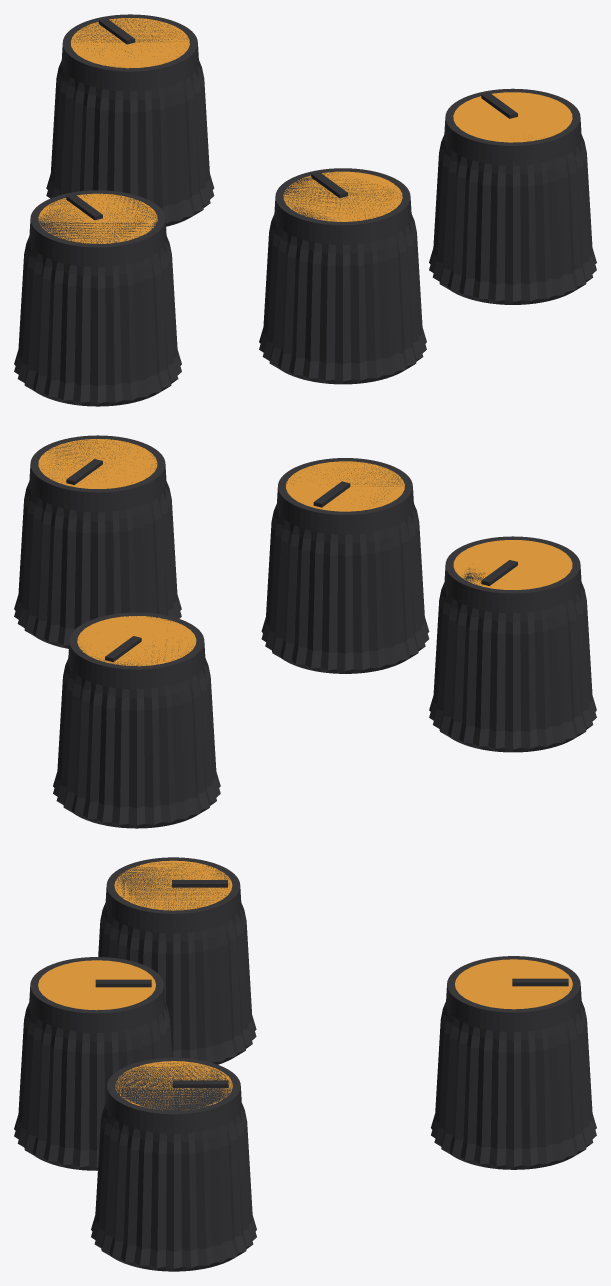
Rendered from knobs.glb.
3 views of the same model, one above another, from view 1: azimuth 30°, elevation 25°; view 2: azimuth 150°, elevation 25°; view 3: azimuth 270°, elevation 25° (orthographic).
Visible parts, largest first — view 1: knob.002, knob.003, knob.001, knob, Cylinder.001, Cylinder, Cylinder.003, Cylinder.002; view 2: knob.003, knob.002, knob, knob.001, Cylinder.003, Cylinder, Cylinder.001, Cylinder.002; view 3: knob.001, knob, knob.002, knob.003, Cylinder, Cylinder.003, Cylinder.002, Cylinder.001.
Part boxes in pixels (<box>): knob.002: <box>14,190,181,406</box>; knob.003: <box>259,168,426,384</box>; knob.001: <box>429,88,596,304</box>; knob: <box>46,14,214,226</box>; Cylinder.001: <box>453,92,572,142</box>; Cylinder: <box>70,18,189,68</box>; Cylinder.003: <box>283,171,402,221</box>; Cylinder.002: <box>38,193,157,243</box>; knob.003: <box>261,458,429,673</box>; knob.002: <box>429,536,596,752</box>; knob: <box>53,612,220,828</box>; knob.001: <box>14,435,181,648</box>; Cylinder.003: <box>286,461,404,511</box>; Cylinder: <box>77,616,196,666</box>; Cylinder.001: <box>38,439,157,488</box>; Cylinder.002: <box>453,540,572,590</box>; knob.001: <box>91,1057,256,1271</box>; knob: <box>431,956,596,1169</box>; knob.002: <box>98,857,256,1064</box>; knob.003: <box>14,957,172,1170</box>; Cylinder: <box>455,959,572,1009</box>; Cylinder.003: <box>38,960,155,1010</box>; Cylinder.002: <box>114,860,232,910</box>; Cylinder.001: <box>115,1061,232,1110</box>.
Size of the model in its own units: 57.55 by 15.65 by 52.32.
